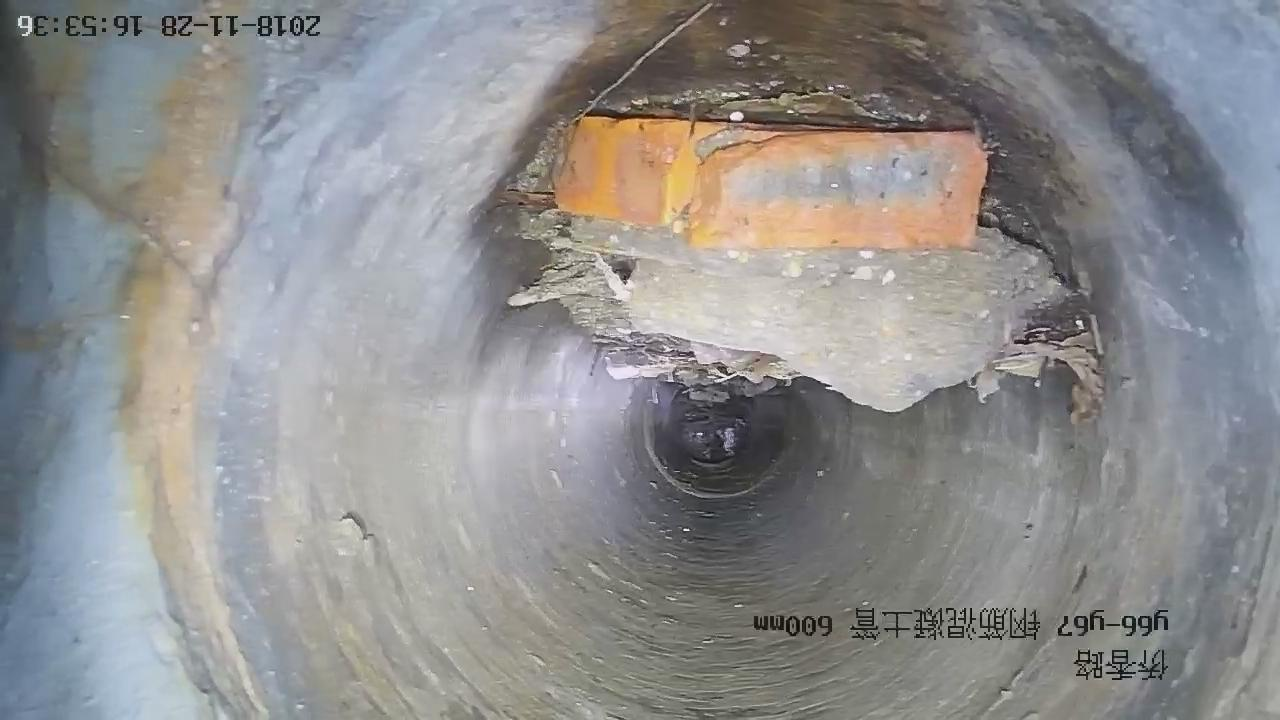ZAW: (509, 116, 1103, 412)
